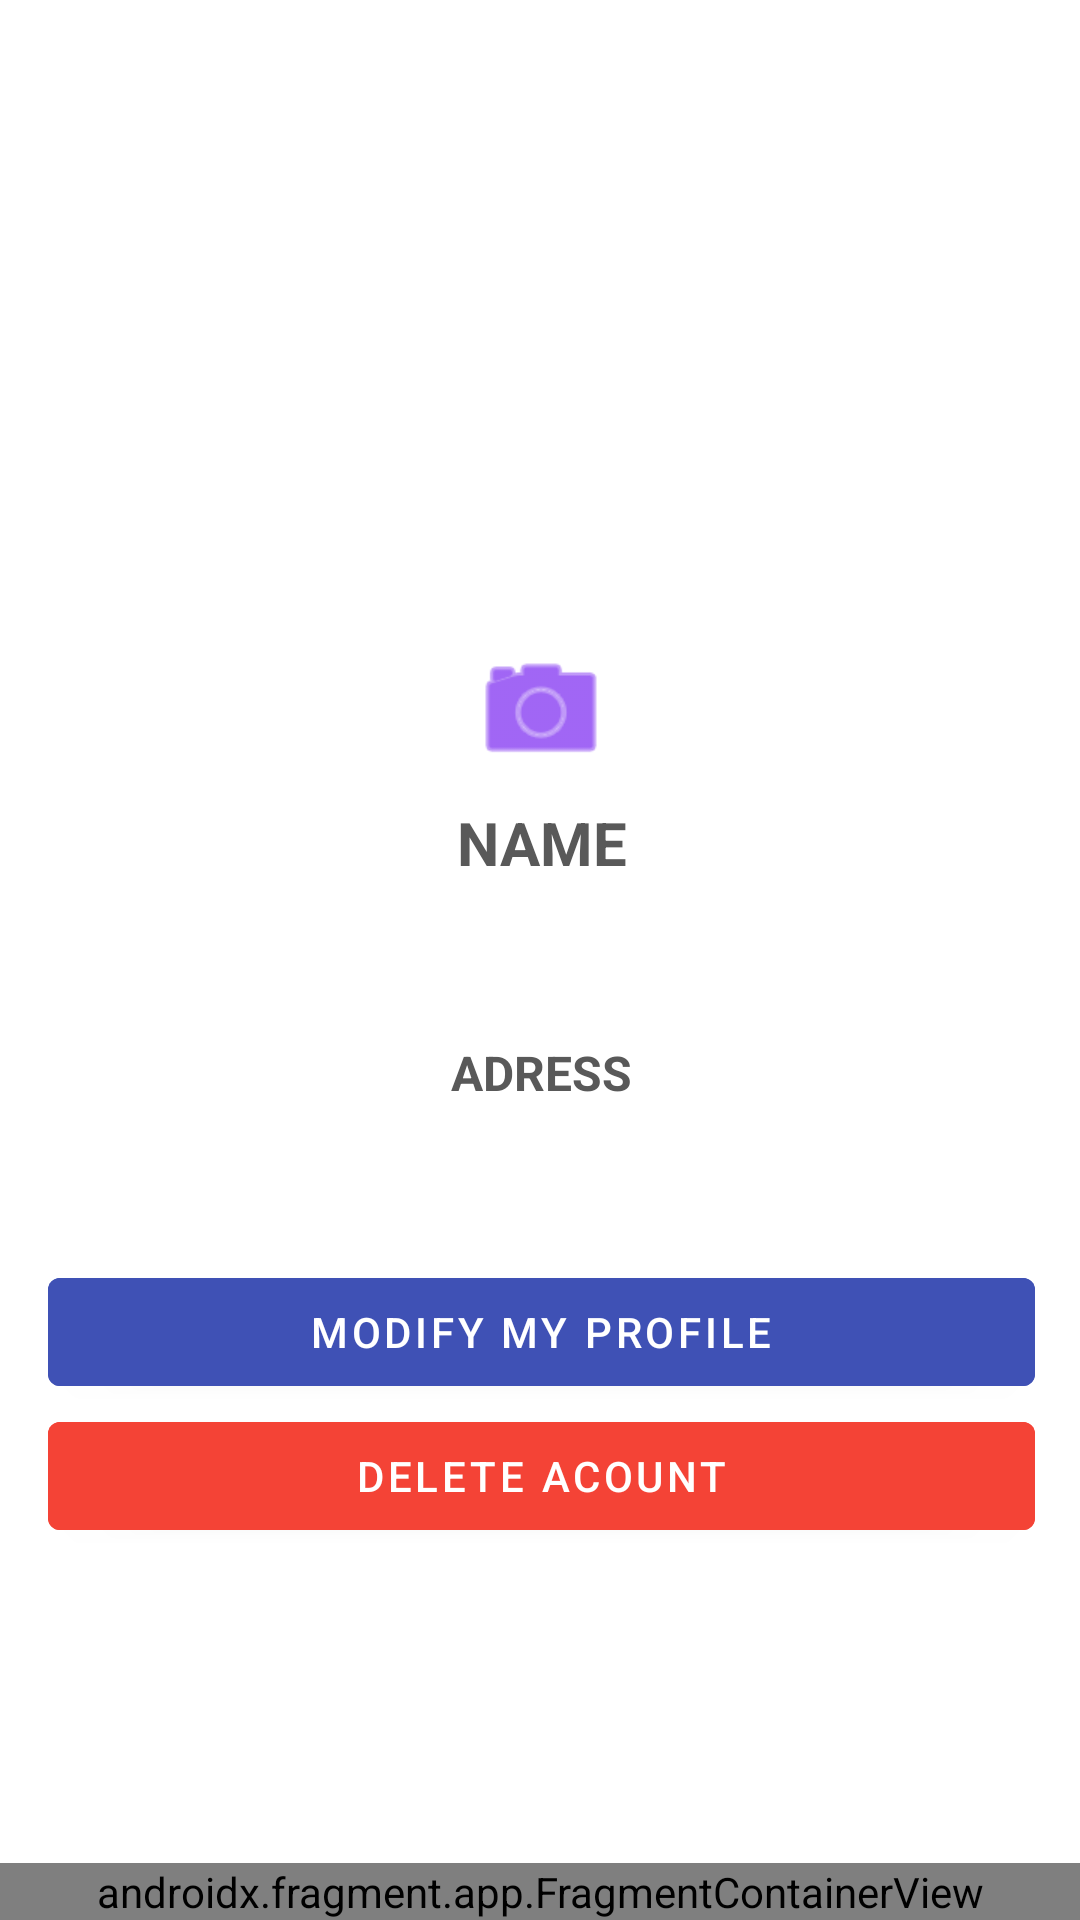

Point at icon controls on the screen. Image size 1080x1920, points as point (x, y).
camera: point (541, 707)
